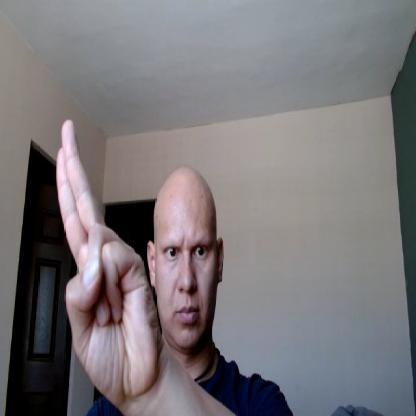U: (55, 117, 158, 396)
